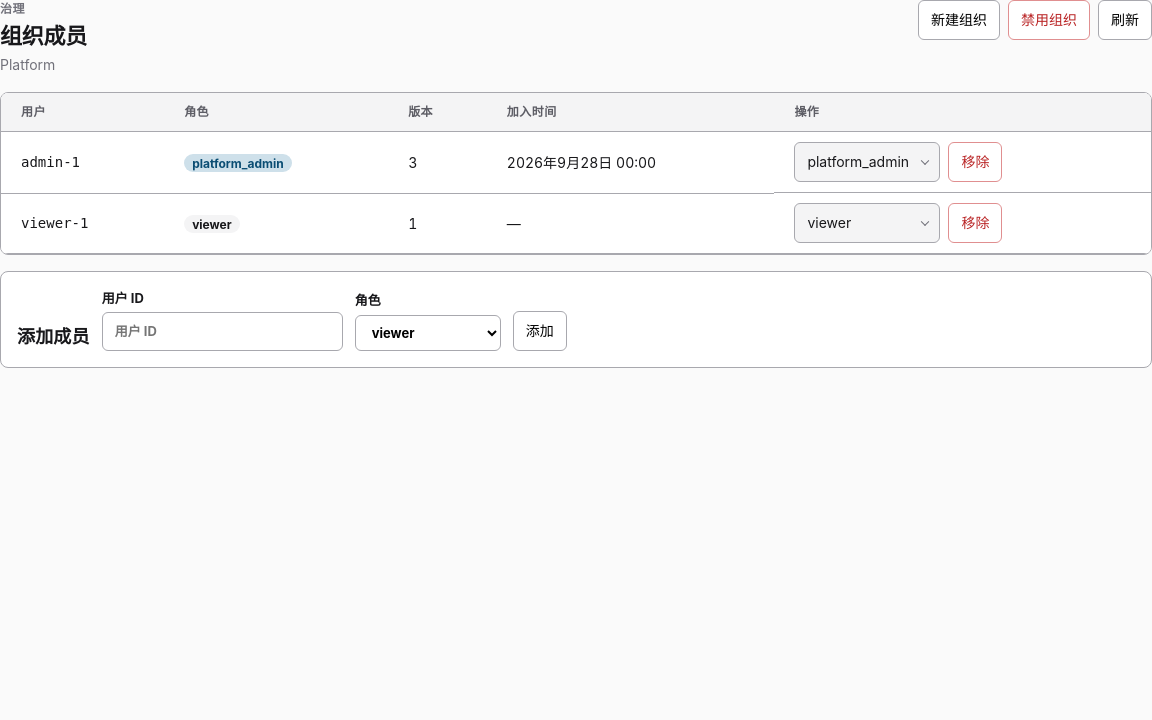
Test: OrganizationPage organization-level actions (TASK-301) › creates an organization and reports it
Click the button with test id "organization-create-open" at coordinates (959, 20), box [918,0,1000,40]
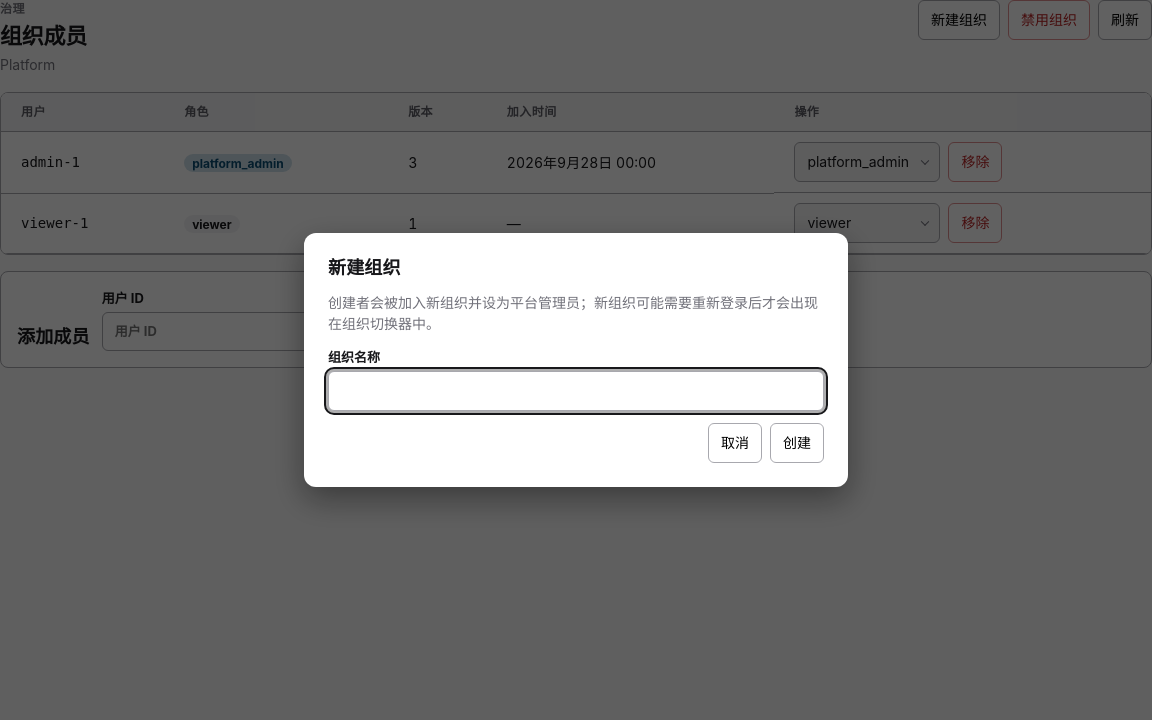
Result: the element with class "organization__create" is shown at [328,292,824,463]
Type "  Acme  " into the field named "organizationName" at coordinates (576, 391), box [328,371,824,411]
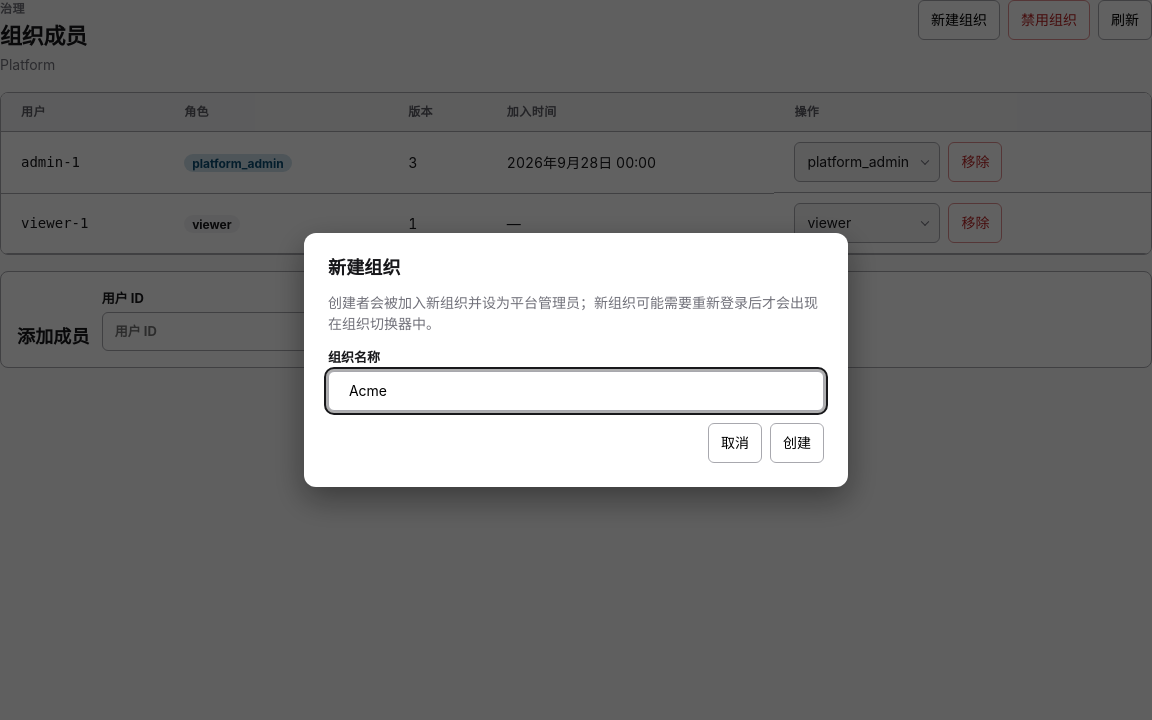
Submit the form, box [328,347,824,463]
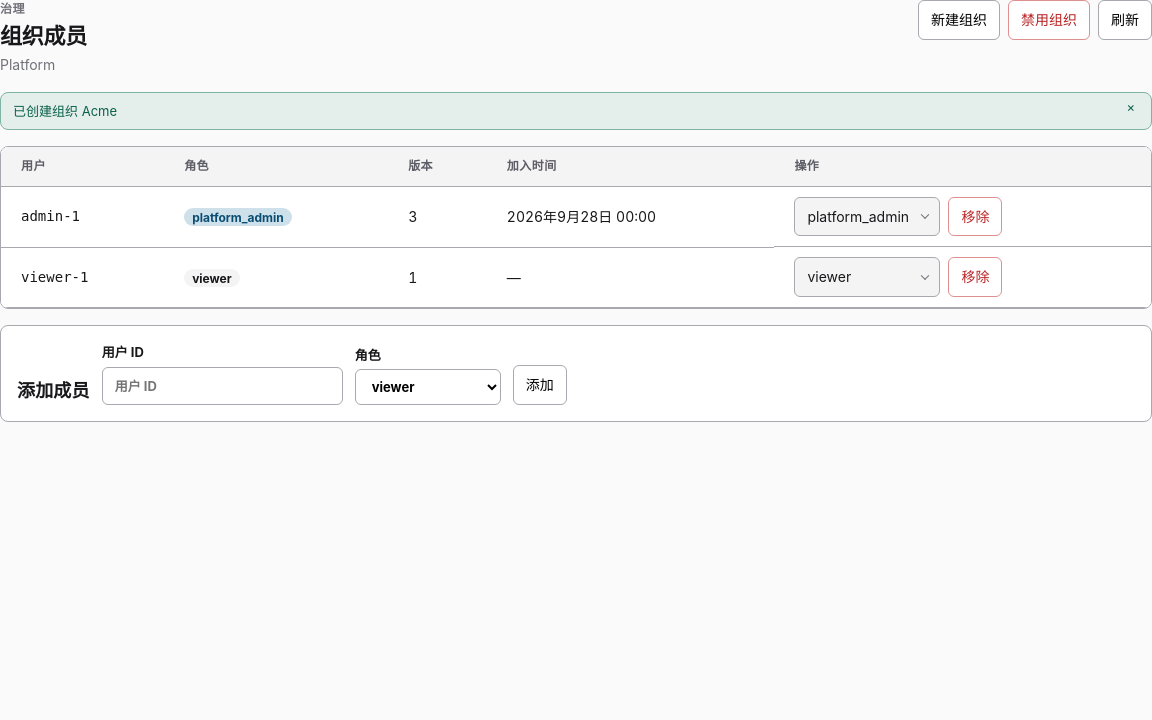
Result: the message with test id "organization-org-notice" shows "已创建组织 Acme" at [13,103,117,119]
Result: the button with test id "organization-create-submit" is gone
